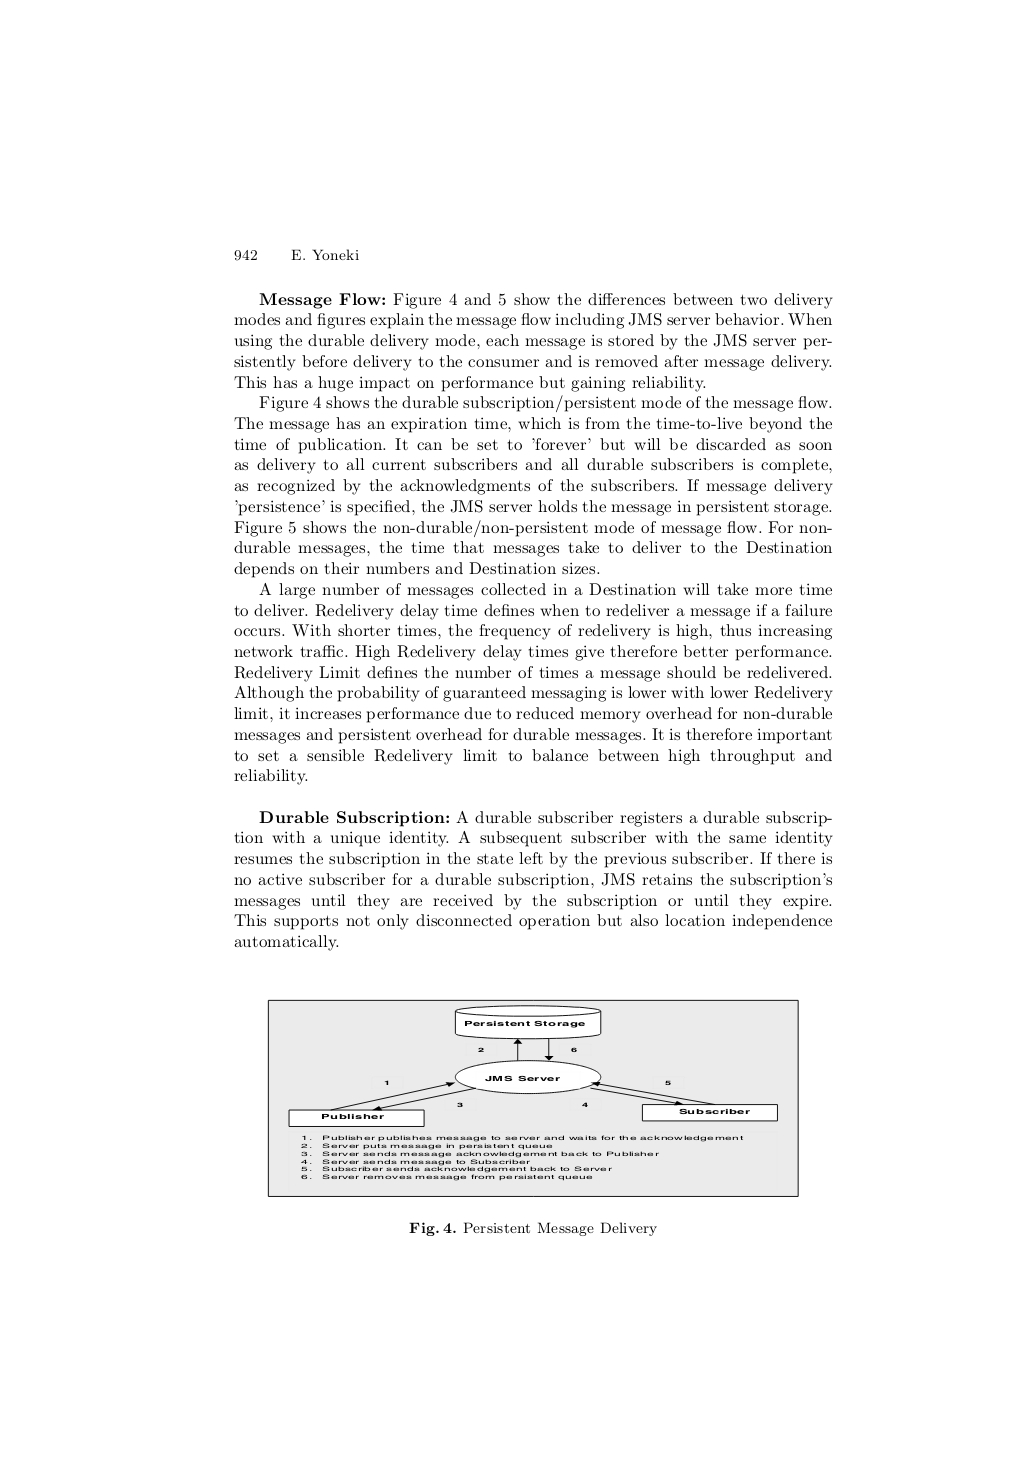figure: (267, 998, 798, 1197)
